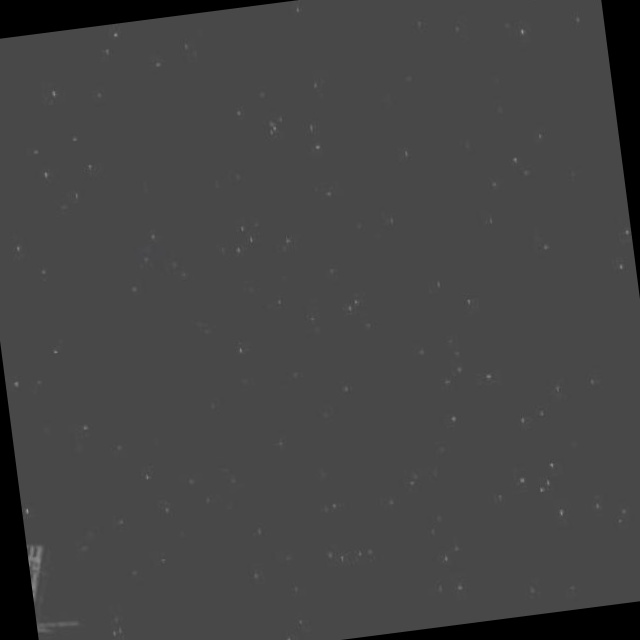satellite: (24, 517, 83, 640)
